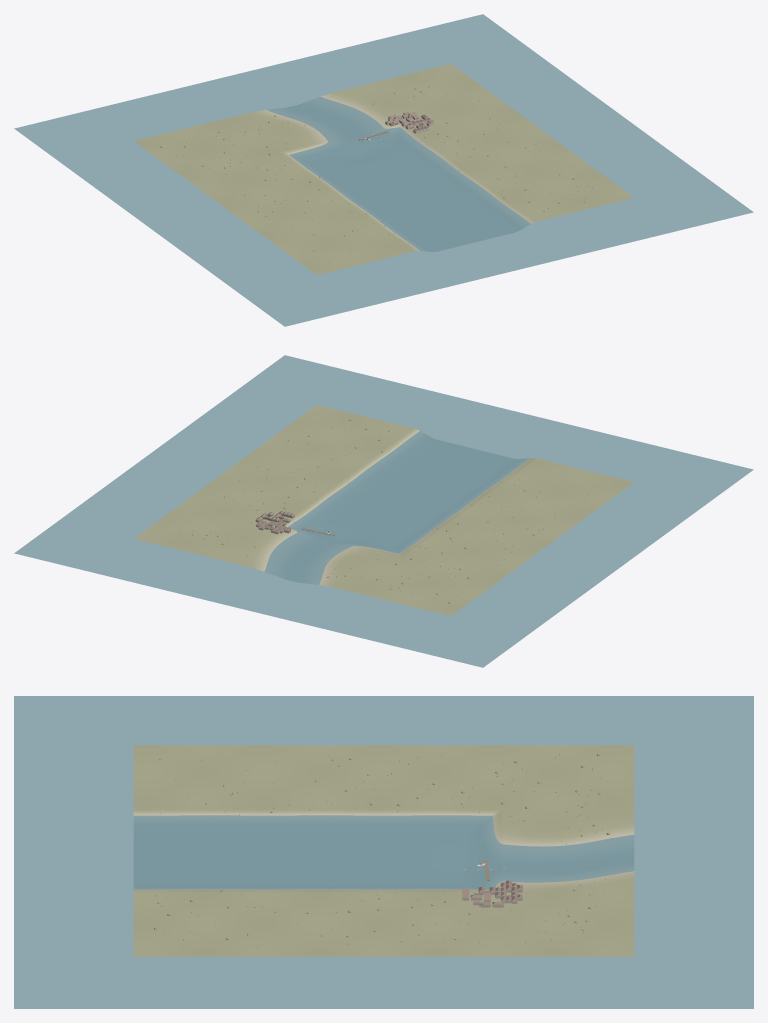
Rendered from coast.glb.
The picture shows the model from 3 angles, top to bottom: view 1: azimuth 30°, elevation 25°; view 2: azimuth 150°, elevation 25°; view 3: azimuth 270°, elevation 25°; orthographic projection. The views are drawn at different scales.
Visible parts, largest first — view 1: ENV_Water, ENV_Terrain; view 2: ENV_Water, ENV_Terrain; view 3: ENV_Water, ENV_Terrain.
Part boxes in pixels (x1,y1,x2,y2): ENV_Water: (14, 14, 753, 326); ENV_Terrain: (134, 64, 633, 274); ENV_Water: (14, 355, 753, 667); ENV_Terrain: (134, 405, 633, 615); ENV_Water: (14, 696, 753, 1008); ENV_Terrain: (133, 745, 634, 956).
Size of the model in its own units: 680 by 18.35 by 680.
